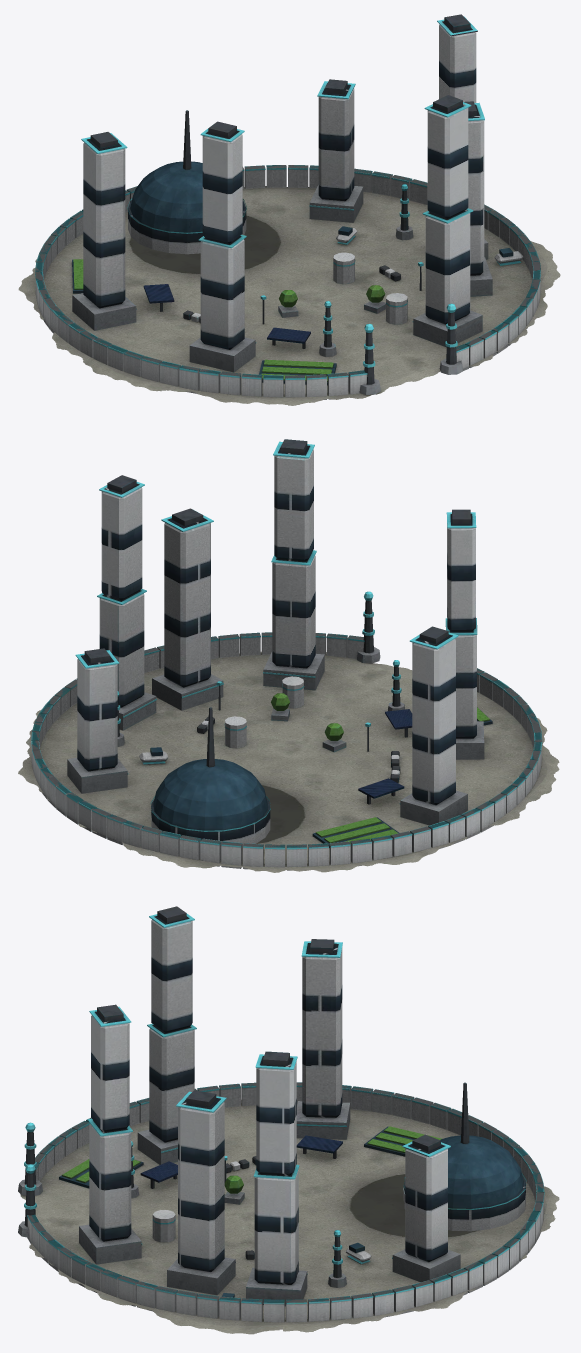
Rendered from future-town-small-b.glb.
3 renders of one model, top to bottom at view 1: azimuth 30°, elevation 25°; view 2: azimuth 150°, elevation 25°; view 3: azimuth 270°, elevation 25°, orthographic. The views are drawn at different scales.
Visible parts, largest first — view 1: LOD0; view 2: LOD0; view 3: LOD0.
Boxes of the visible parts, x1,y1,x2,y2 form: LOD0: [18, 14, 560, 405]; LOD0: [18, 439, 559, 872]; LOD0: [18, 906, 559, 1334].
Size of what is drawn, in the model's own units: 3.99 by 1.88 by 3.87.
3 materials, 3 textured.
